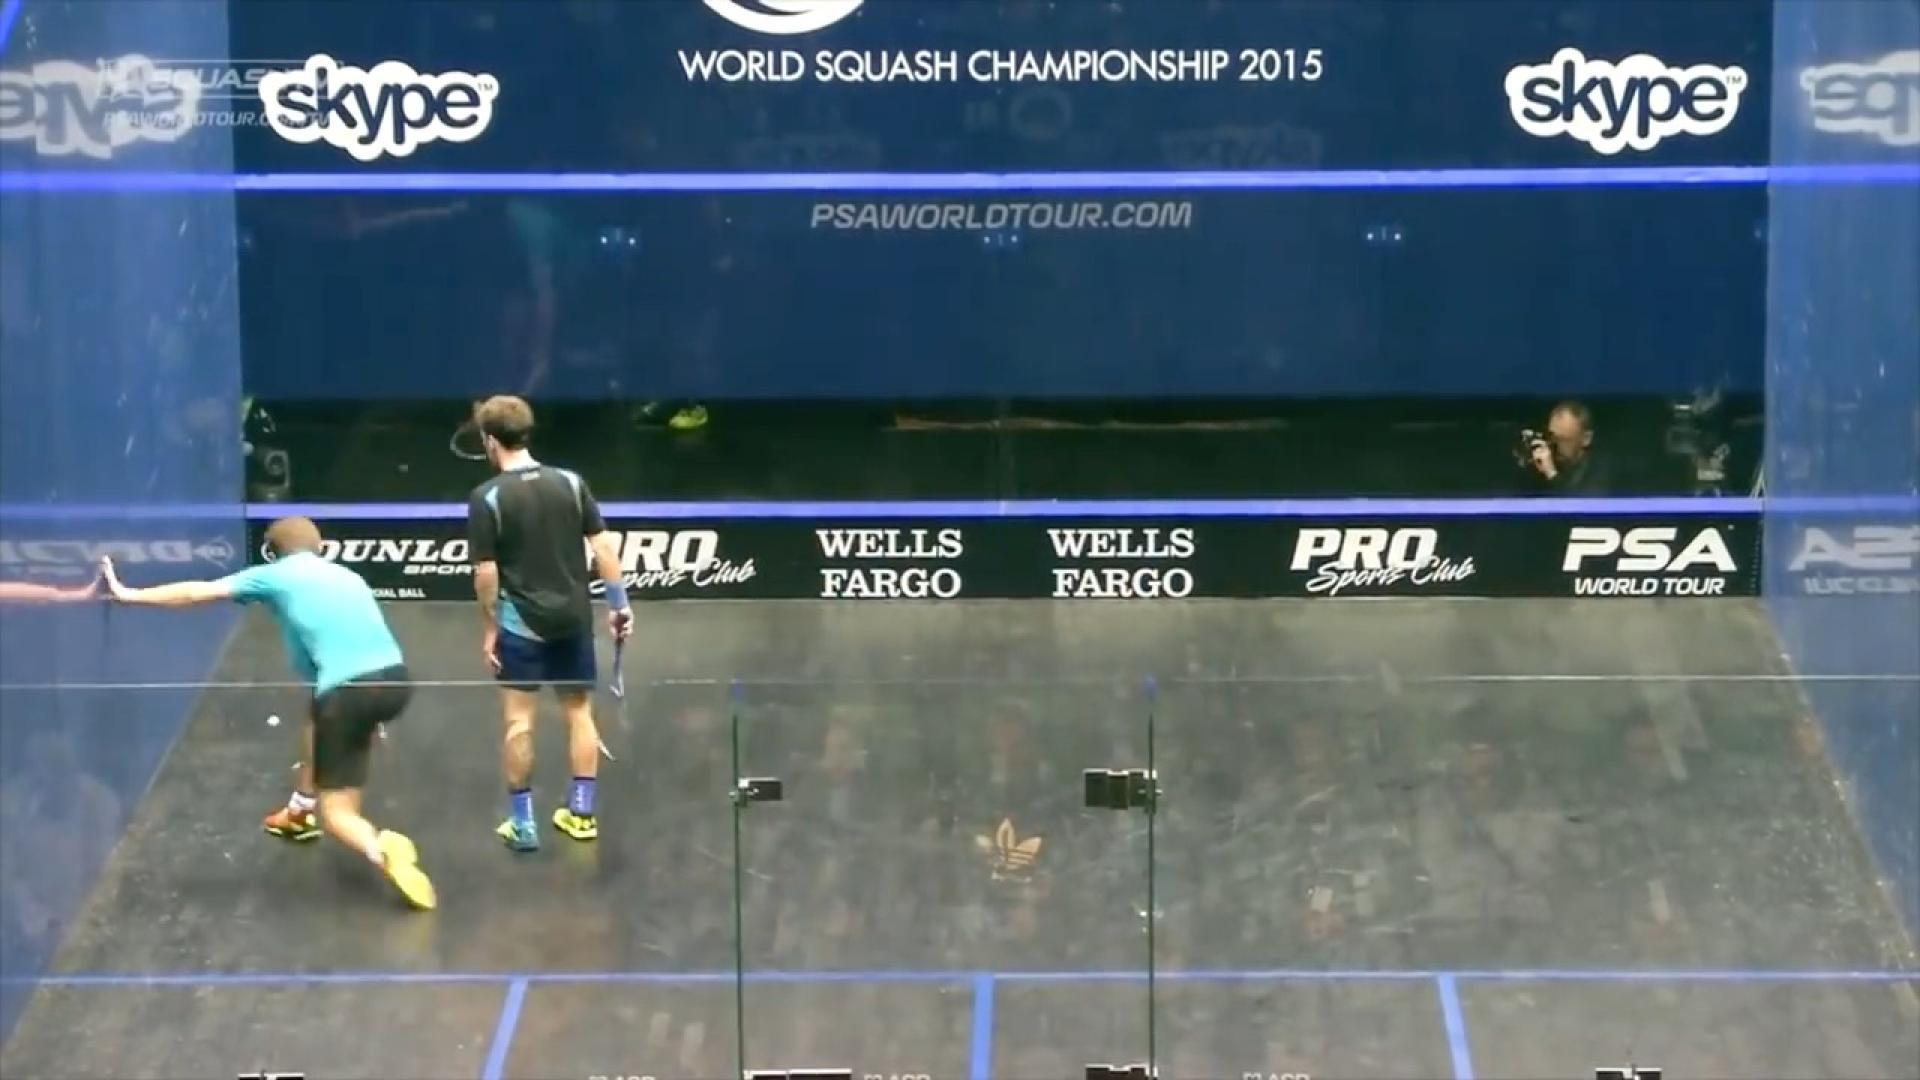Squash-Ball: (253, 695, 301, 748)
